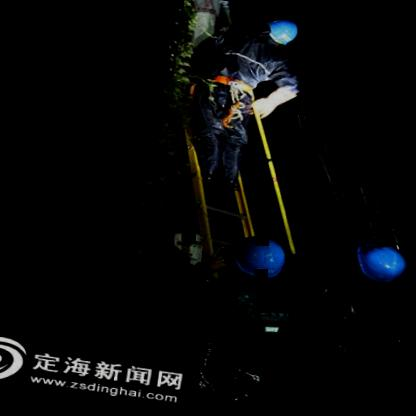helmet: (224, 233, 290, 287), (349, 240, 409, 286), (260, 12, 306, 50)
